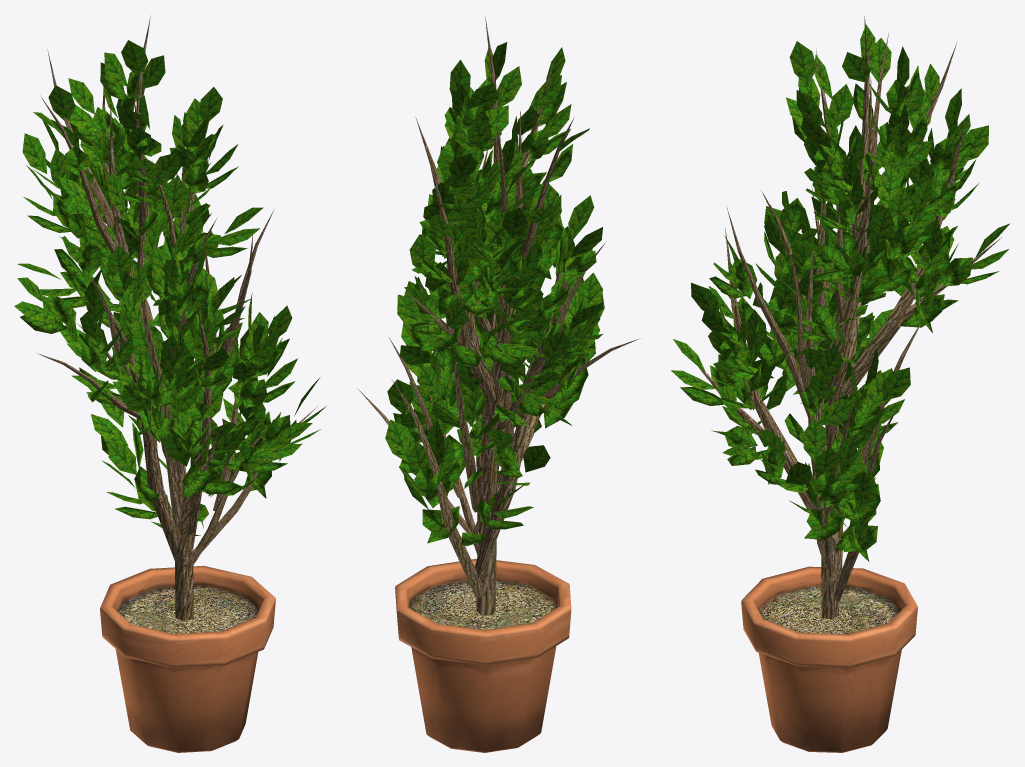
Rendered from PotWithPlant.fbx.
3 renders of one model, left to right at view 1: azimuth 30°, elevation 25°; view 2: azimuth 150°, elevation 25°; view 3: azimuth 270°, elevation 25°, orthographic. The views are drawn at different scales.
Visible parts, largest first — view 1: Plane, Circle.003, Circle.006; view 2: Plane, Circle.003, Circle.006; view 3: Plane, Circle.003, Circle.006.
Boxes of the visible parts, x1,y1,x2,y2 form: Plane: (14,40,326,535); Circle.003: (100,565,275,752); Circle.006: (37,15,317,621); Plane: (385,42,604,546); Circle.003: (395,558,571,752); Circle.006: (357,17,639,615); Plane: (671,24,1009,561); Circle.003: (741,566,917,752); Circle.006: (698,16,1001,619).
Bounding box in the file's own units: 148 × 360 × 157.
